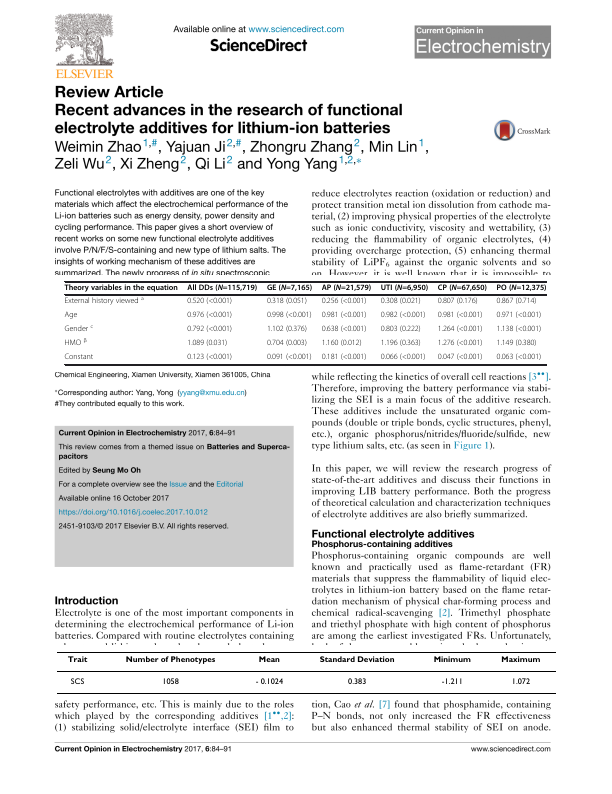borderless: (63, 280, 546, 364), (56, 650, 556, 693)
cell: (64, 284, 179, 293), (63, 295, 145, 307), (124, 655, 216, 664), (318, 655, 395, 664), (186, 284, 258, 293), (186, 297, 233, 307), (186, 311, 233, 321), (495, 311, 542, 321), (186, 325, 233, 335), (495, 325, 542, 335), (186, 353, 233, 363), (495, 353, 542, 363), (495, 284, 547, 293), (321, 297, 367, 307), (266, 311, 312, 321), (321, 311, 367, 321), (380, 311, 426, 321), (437, 311, 483, 321), (321, 325, 367, 335), (437, 325, 483, 335), (437, 339, 483, 349), (266, 353, 312, 363), (321, 353, 367, 363), (380, 353, 426, 363), (437, 353, 483, 363), (321, 284, 372, 293), (437, 284, 488, 293), (380, 284, 429, 293), (266, 284, 313, 293), (266, 297, 308, 307), (380, 297, 422, 307), (437, 297, 479, 307), (495, 297, 537, 307), (266, 325, 308, 335), (380, 325, 422, 335), (186, 339, 228, 349), (266, 339, 308, 349), (380, 339, 422, 349), (495, 339, 537, 349), (321, 339, 362, 349), (500, 655, 541, 664), (64, 323, 94, 335), (432, 655, 471, 664), (64, 353, 94, 363), (64, 337, 88, 349), (254, 677, 284, 685), (257, 655, 280, 664), (66, 655, 88, 664), (440, 677, 463, 685), (510, 677, 531, 685), (347, 677, 367, 685), (161, 677, 179, 685), (64, 311, 78, 321), (69, 677, 85, 685)
